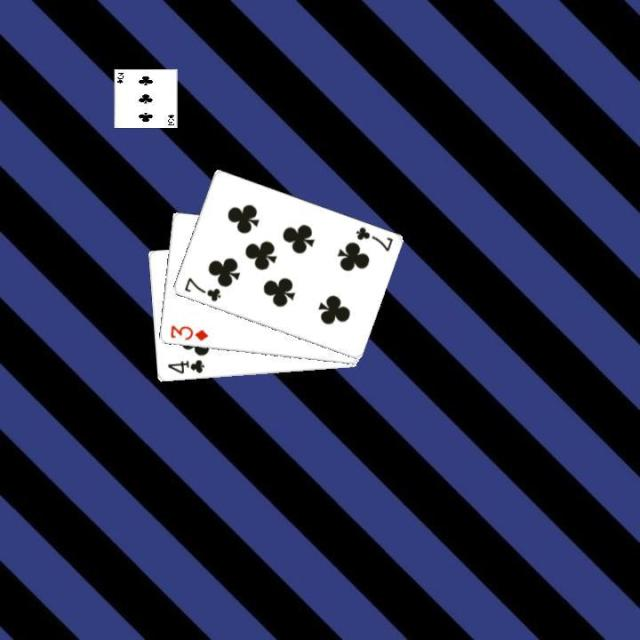3D: (166, 321, 210, 343)
4C: (164, 356, 206, 376)
7C: (351, 223, 395, 253), (180, 274, 222, 303)
